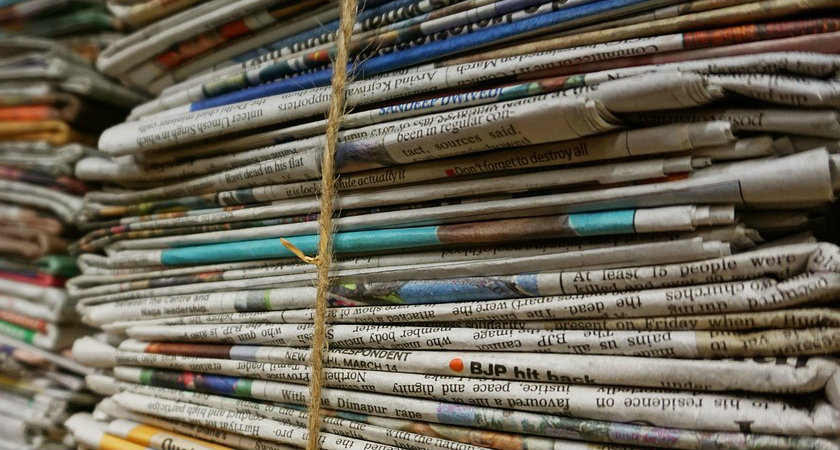news_paper: (53, 11, 840, 161), (68, 198, 840, 349), (67, 339, 839, 450)
